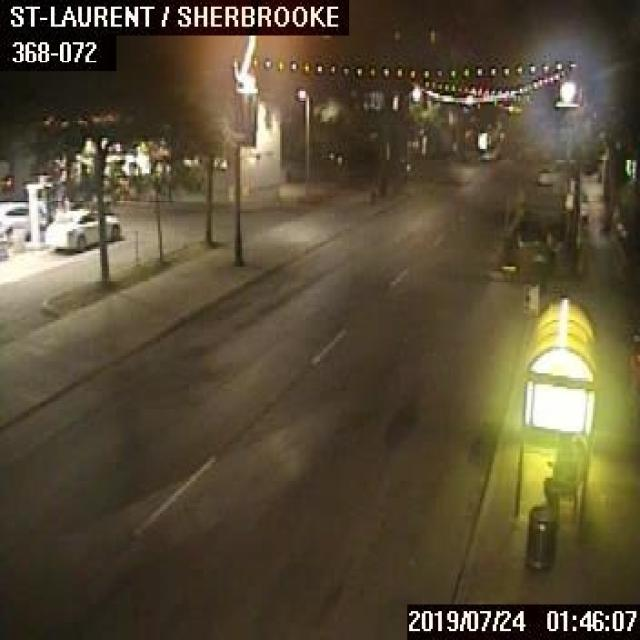pedestrian: (542, 442, 575, 508)
vehicle: (44, 206, 118, 251), (0, 200, 51, 238), (536, 165, 551, 185)
